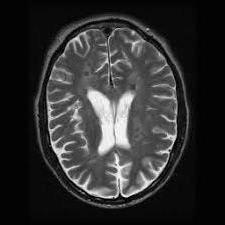Normal_Brain: (19, 6, 210, 225)
